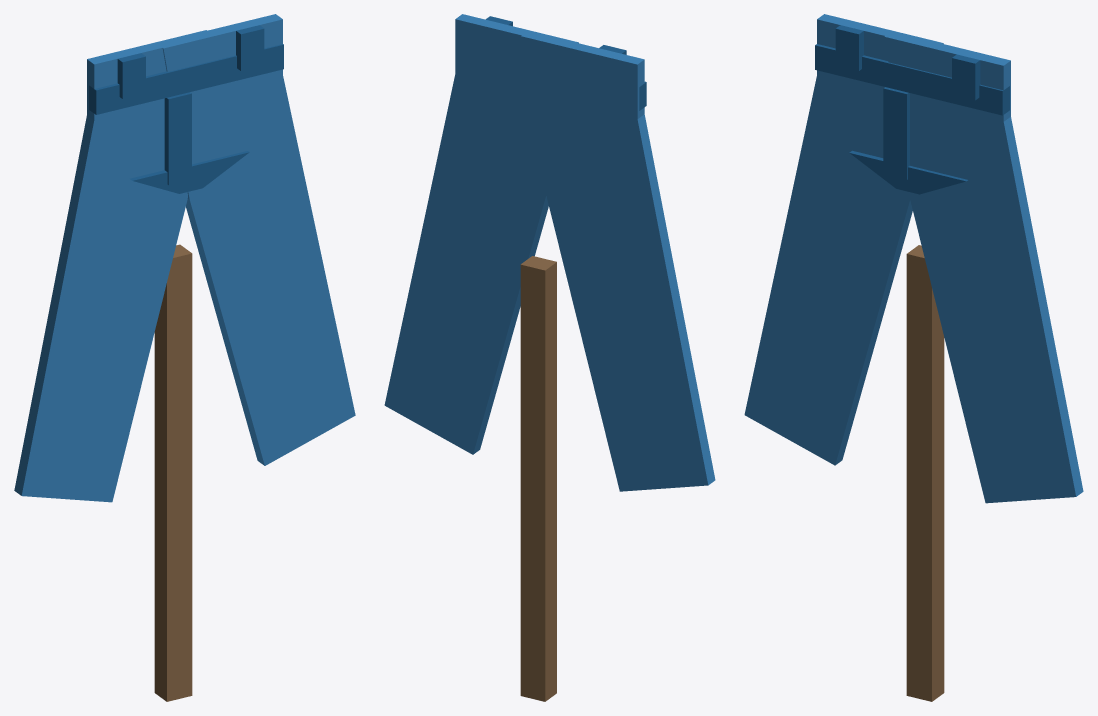
File: pantalon.glb
3 renders of one model, left to right at view 1: azimuth 30°, elevation 25°; view 2: azimuth 150°, elevation 25°; view 3: azimuth 330°, elevation 25°, orthographic. The views are drawn at different scales.
Size of the model in its own units: 0.788 by 1.5 by 0.109.
